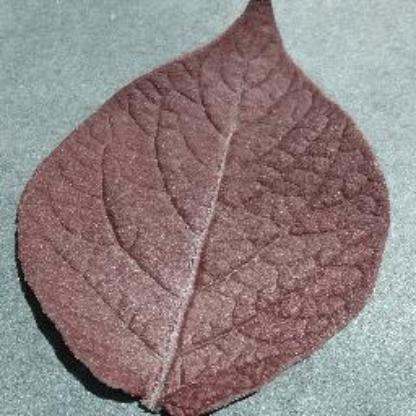Healthy-plant: (13, 0, 390, 412)
